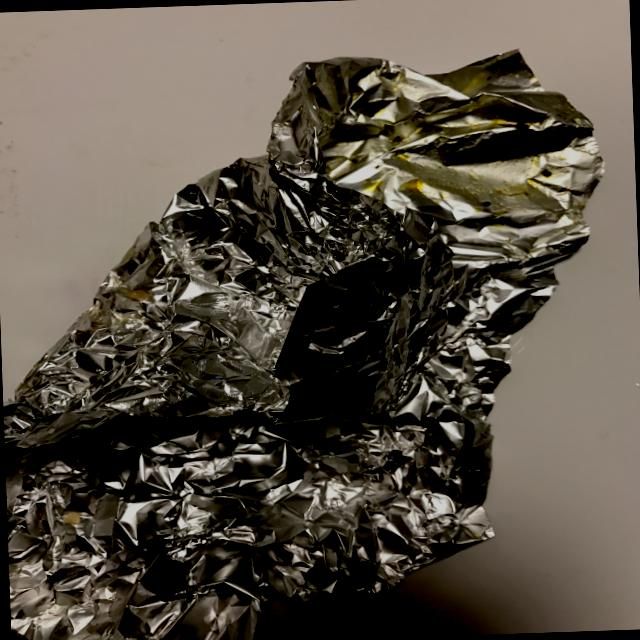Metal: (0, 35, 627, 640)
